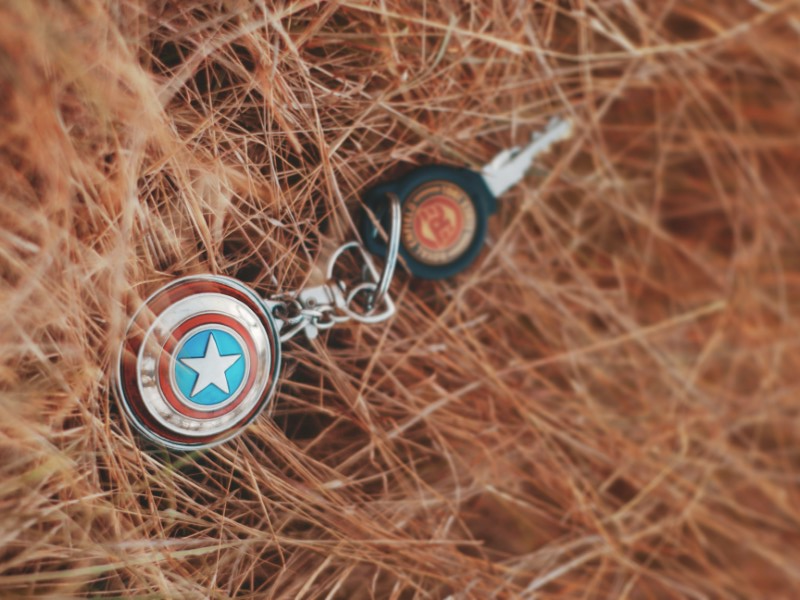carkey: (372, 104, 576, 286)
